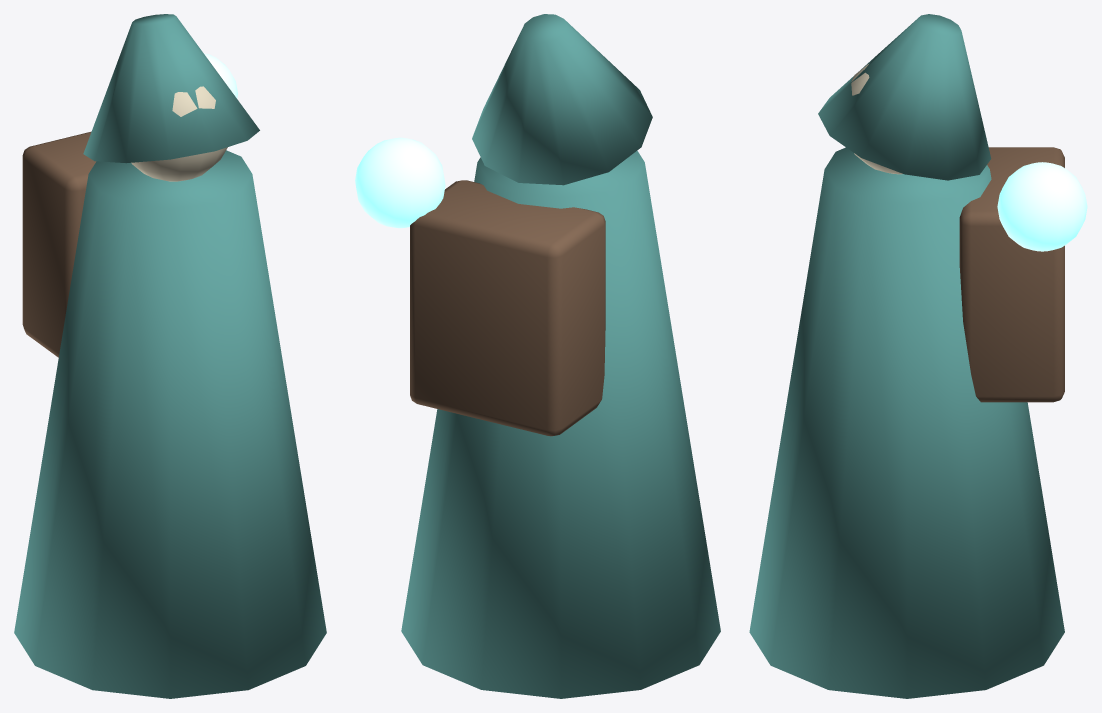
Rendered from vendor_npc.glb.
3 renders of one model, left to right at view 1: azimuth 30°, elevation 25°; view 2: azimuth 150°, elevation 25°; view 3: azimuth 270°, elevation 25°, orthographic. The views are drawn at different scales.
Parts seen in each view (by area): view 1: Robe, MerchantHood, Pack, Head; view 2: Robe, Pack, MerchantHood, LanternPack; view 3: Robe, Pack, MerchantHood, LanternPack, Head.
Part boxes in pixels (x1,y1,x2,y2): Robe: (14,150,326,698); MerchantHood: (83,14,259,163); Pack: (22,131,96,357); Head: (131,86,227,181); Robe: (401,150,720,698); Pack: (410,180,605,436); MerchantHood: (472,14,652,185); LanternPack: (355,137,445,228); Robe: (749,147,1064,698); Pack: (959,147,1064,402); MerchantHood: (818,14,991,180); LanternPack: (997,162,1087,251); Head: (851,64,902,174).
Size of the model in its own units: 0.84 by 1.8 by 0.9.
